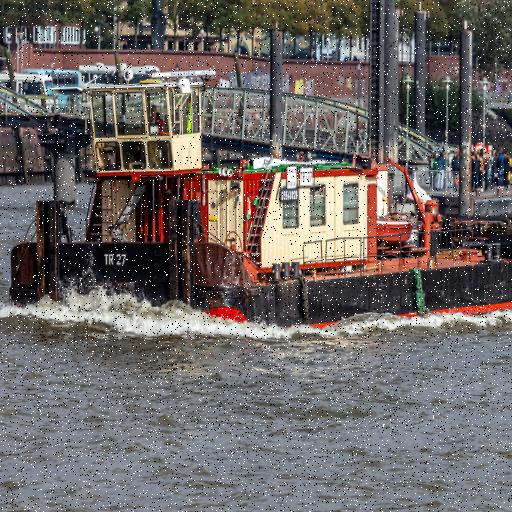tugboat: (5, 46, 512, 350)
